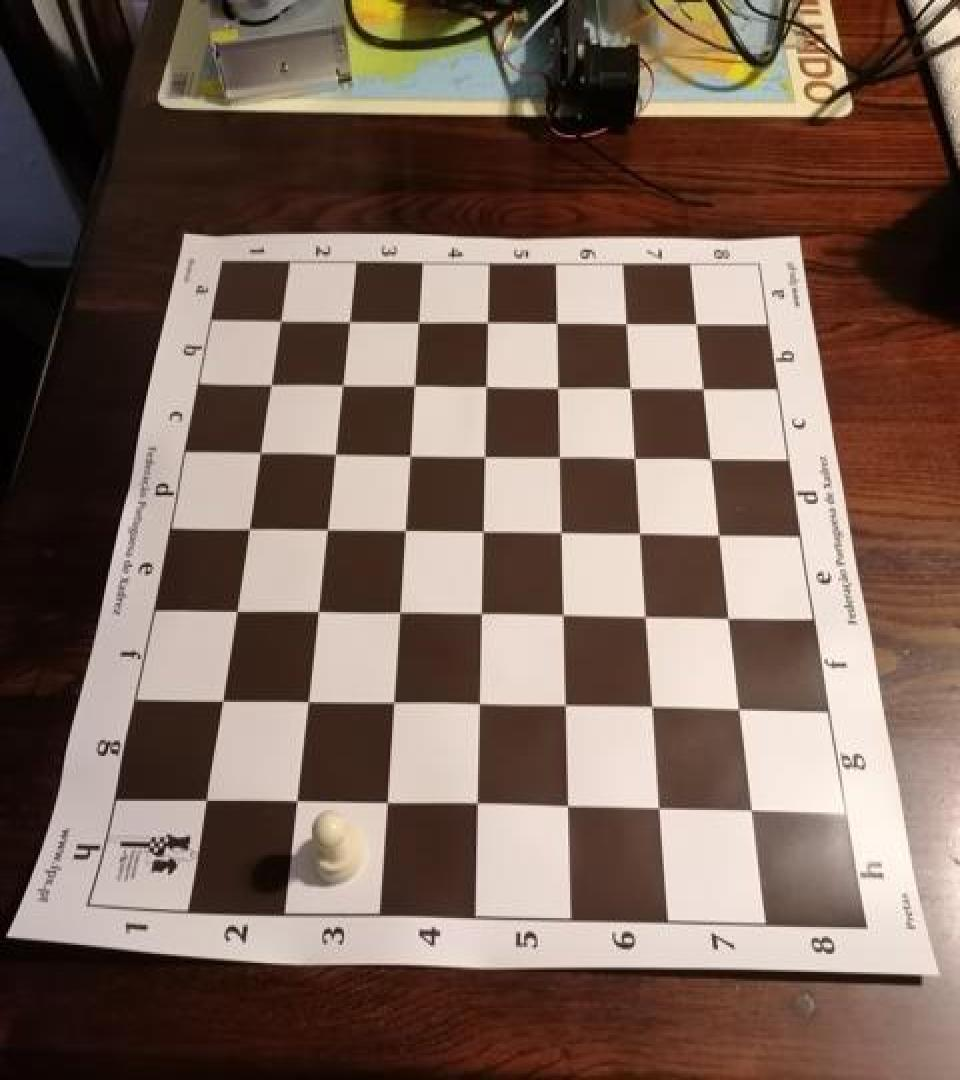xcorner: (725, 689, 757, 726), (634, 688, 666, 725), (454, 786, 486, 823), (680, 300, 712, 336), (609, 302, 641, 338), (539, 302, 571, 338), (469, 302, 501, 338), (400, 302, 432, 338), (331, 304, 363, 340), (263, 304, 295, 340), (688, 364, 720, 400), (613, 366, 645, 402), (540, 366, 572, 402), (467, 366, 499, 402), (395, 366, 427, 402), (323, 366, 355, 402), (252, 367, 284, 403), (696, 436, 728, 472), (618, 436, 650, 472), (541, 434, 573, 470), (465, 434, 497, 470), (389, 434, 421, 470), (315, 434, 347, 470), (241, 434, 273, 470), (704, 512, 736, 548), (623, 511, 655, 547), (542, 511, 574, 547), (462, 511, 494, 547), (384, 510, 416, 546), (306, 510, 338, 546), (228, 508, 260, 544), (714, 596, 746, 632), (628, 595, 660, 631), (544, 594, 576, 630), (460, 593, 492, 629), (377, 592, 409, 628), (295, 592, 327, 628), (214, 590, 246, 626), (545, 686, 577, 722), (457, 685, 489, 721), (370, 683, 402, 719), (284, 682, 316, 718), (199, 680, 231, 716), (736, 793, 768, 829), (641, 791, 673, 827), (547, 788, 579, 824), (362, 784, 394, 820), (272, 782, 304, 818), (182, 780, 214, 816)
